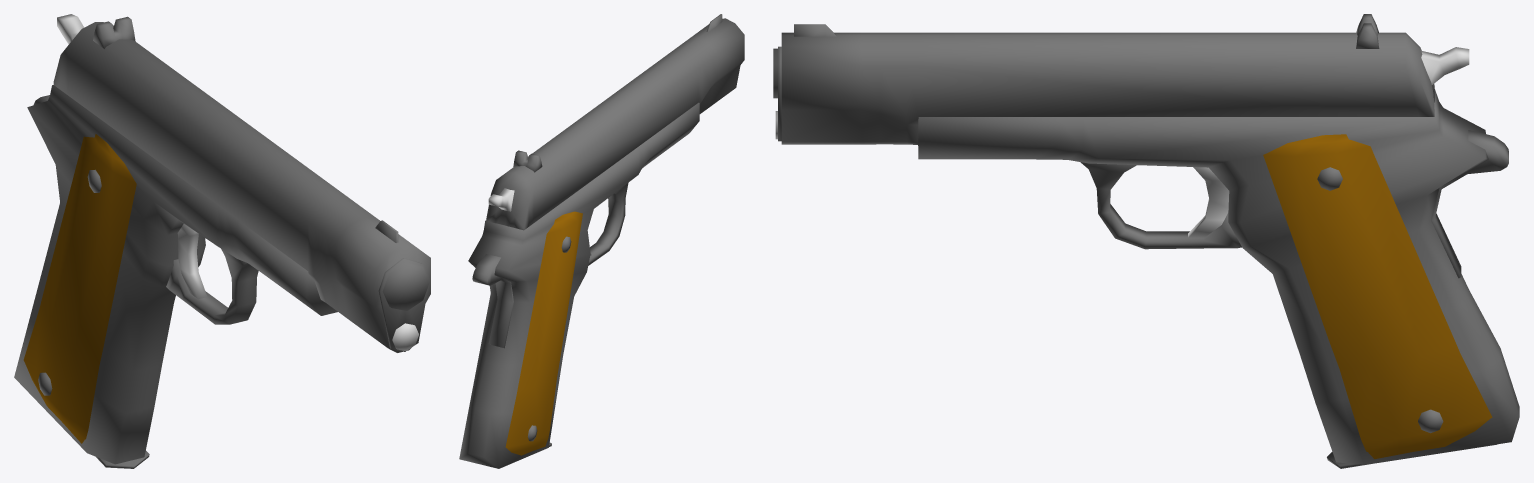
3 views of the same model, side by side, from view 1: azimuth 30°, elevation 25°; view 2: azimuth 150°, elevation 25°; view 3: azimuth 270°, elevation 25° (orthographic). The views are drawn at different scales.
Visible parts, largest first — view 1: Cube; view 2: Cube; view 3: Cube.
Part boxes in pixels (x1,y1,x2,y2): Cube: (14,14,430,468); Cube: (459,14,744,468); Cube: (773,14,1519,468).
Bounding box in the file's own units: 122 × 599 × 923.
